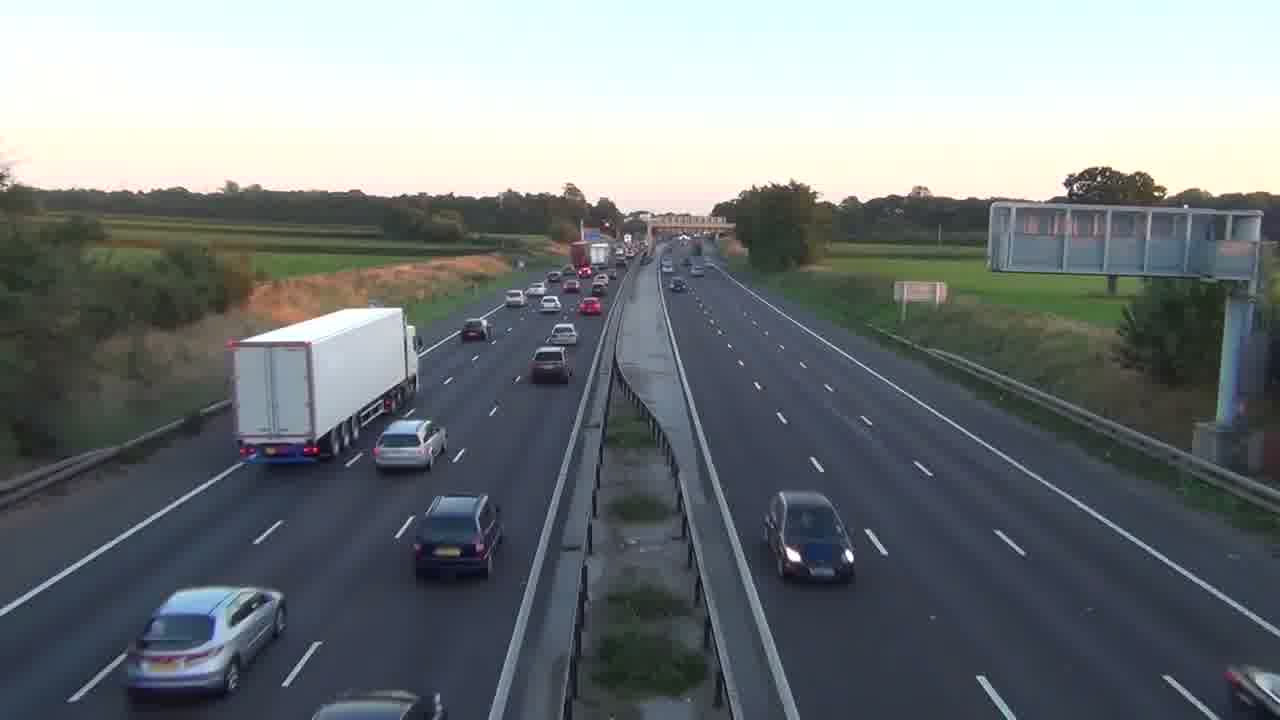car: (124, 585, 288, 700), (762, 490, 857, 584), (411, 493, 504, 581), (311, 688, 447, 720), (1222, 665, 1279, 718), (528, 345, 573, 384), (550, 322, 578, 345), (462, 320, 486, 343), (577, 296, 603, 317), (504, 288, 526, 307)
truck: (228, 306, 419, 465)
